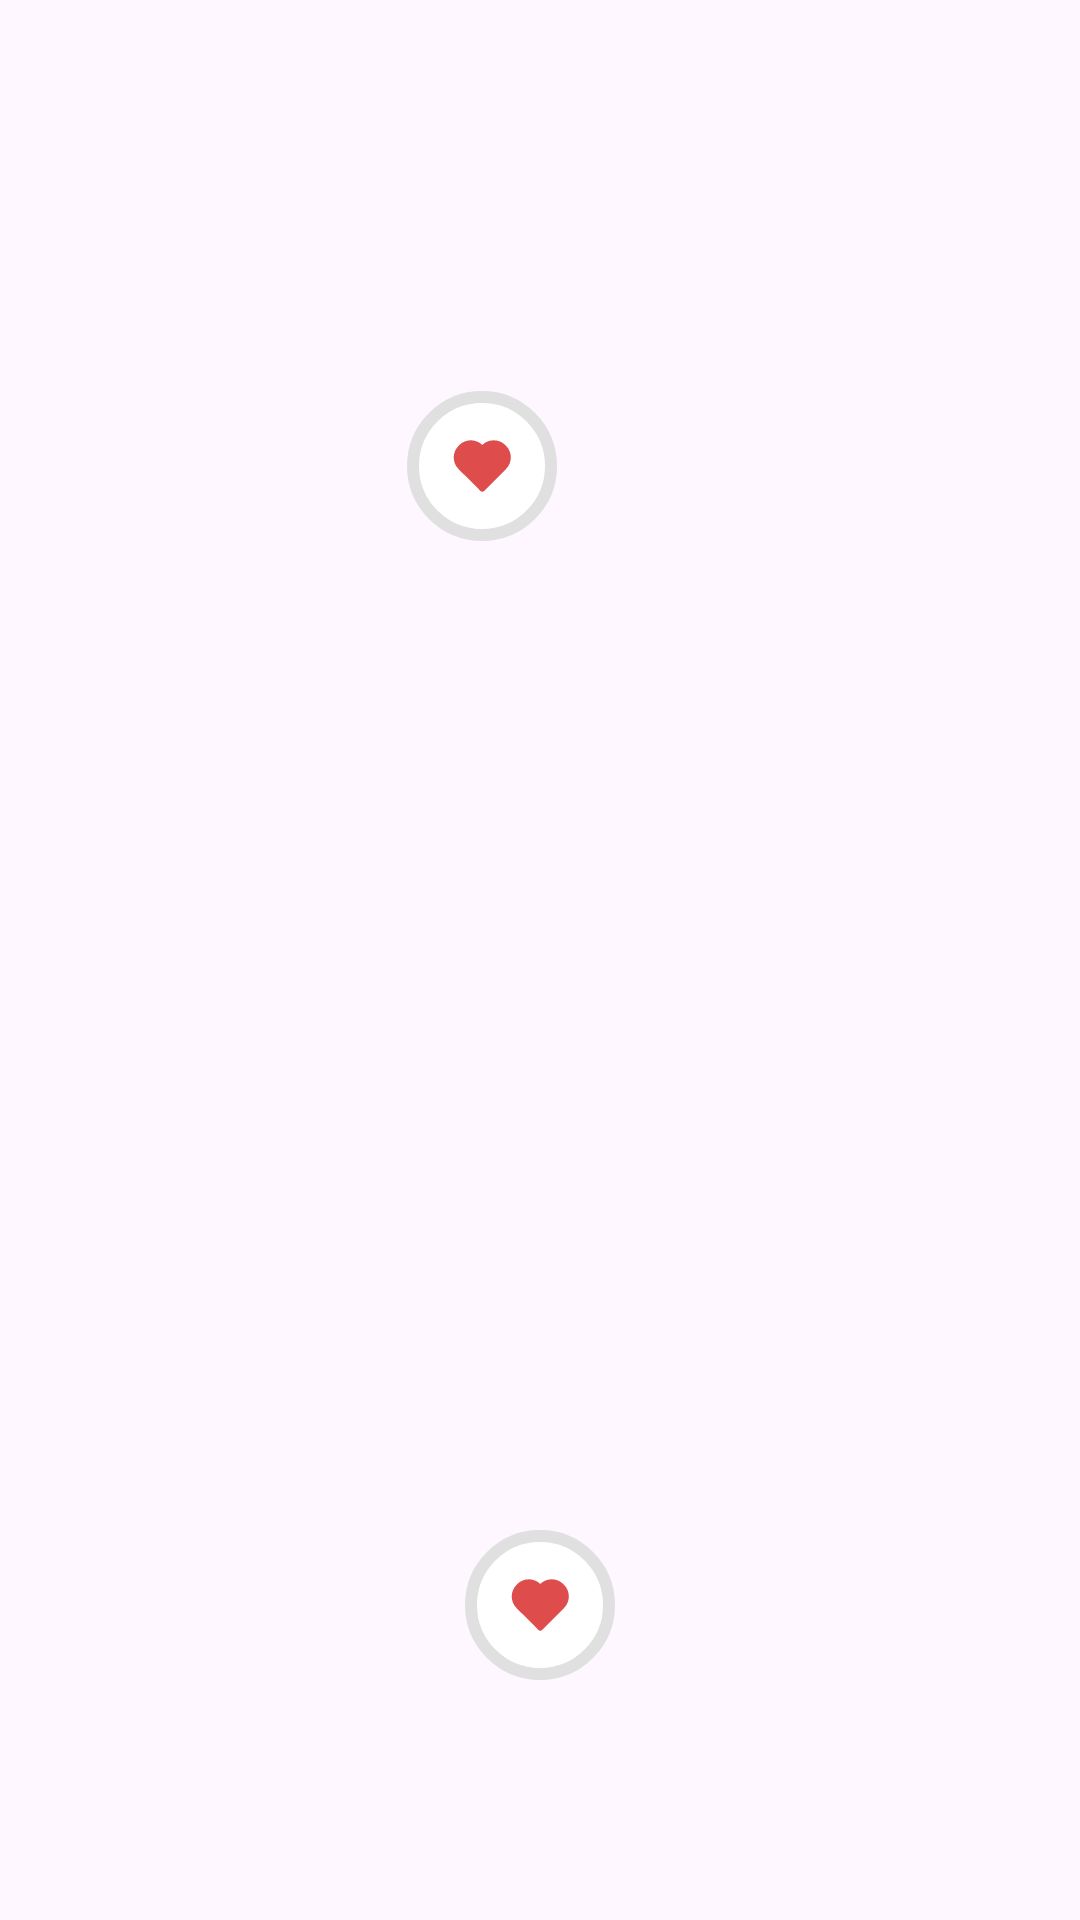

Locate icon controls on the screen. Image size 1080*1920, boxes as (x1, y1, x2, y2).
fav ex: (407, 391, 557, 541), (465, 1530, 615, 1680)
